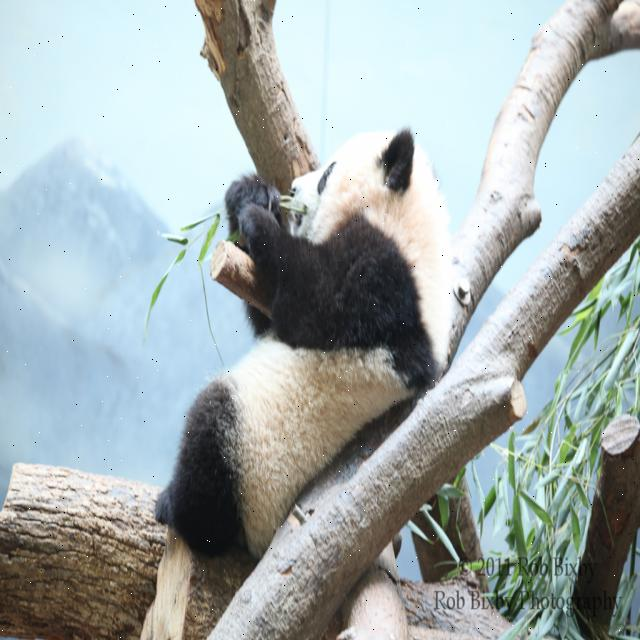panda: (137, 120, 455, 568)
